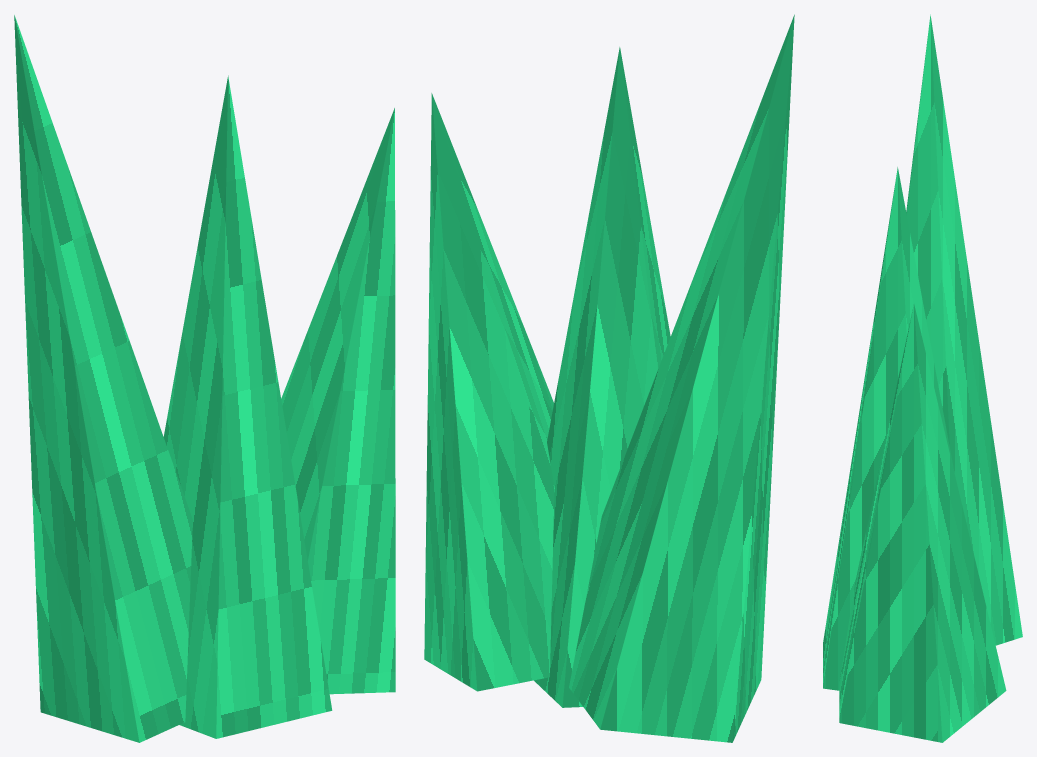
File: crystal_45.glb
3 views of the same model, side by side, from view 1: azimuth 30°, elevation 25°; view 2: azimuth 150°, elevation 25°; view 3: azimuth 270°, elevation 25° (orthographic). The views are drawn at different scales.
Visible parts, largest first — view 1: Jade, Jade.001, Jade.002; view 2: Jade, Jade.002, Jade.001; view 3: Jade.002, Jade, Jade.001.
Part boxes in pixels (bbox=[...]): Jade: bbox=[14, 15, 192, 742]; Jade.001: bbox=[163, 75, 332, 738]; Jade.002: bbox=[281, 108, 395, 694]; Jade: bbox=[569, 14, 794, 742]; Jade.002: bbox=[424, 93, 554, 691]; Jade.001: bbox=[534, 47, 670, 707]; Jade.002: bbox=[839, 304, 1006, 742]; Jade: bbox=[906, 14, 1022, 645]; Jade.001: bbox=[823, 167, 954, 690].
Size of the model in its own units: 0.8255 by 1.54 by 0.4758.
Materials: 1 (1 with a texture image).
